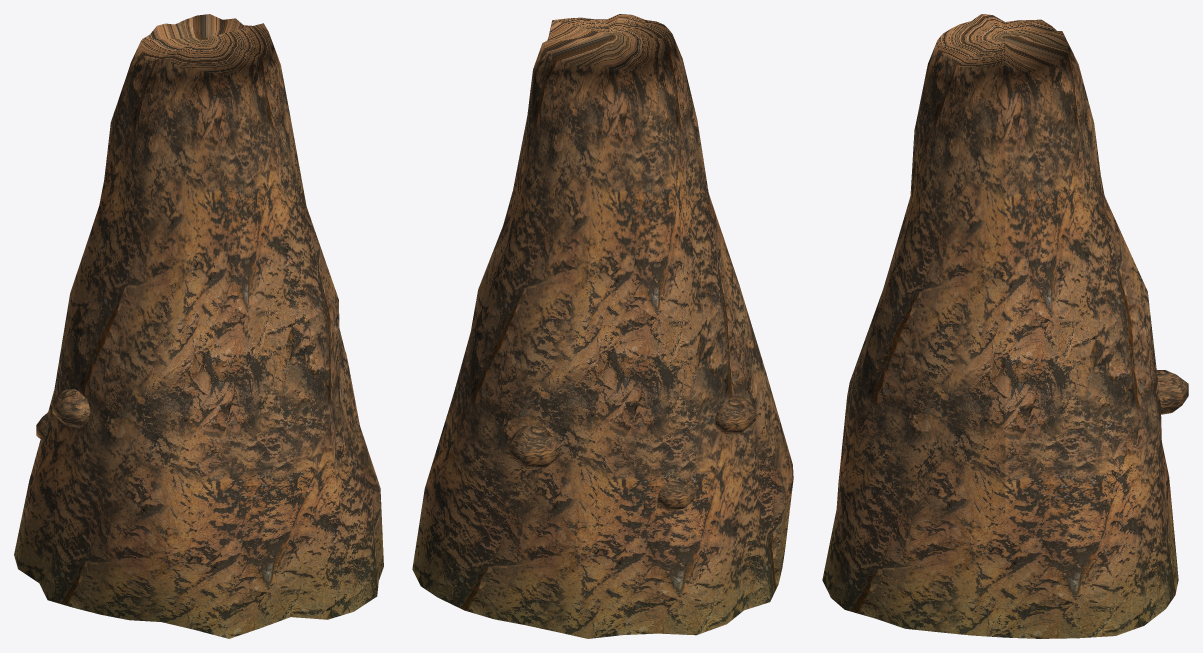
File: canyon-cliff.glb
3 renders of one model, left to right at view 1: azimuth 30°, elevation 25°; view 2: azimuth 150°, elevation 25°; view 3: azimuth 270°, elevation 25°, orthographic.
Visible parts, largest first — view 1: CliffRock; view 2: CliffRock; view 3: CliffRock.
Boxes of the visible parts, <box> form: CliffRock: <box>14,14,383,638</box>; CliffRock: <box>412,14,793,638</box>; CliffRock: <box>822,14,1188,638</box>.
Bounding box in the file's own units: 34.35 × 56.1 × 35.08.
1 material, 1 textured.
